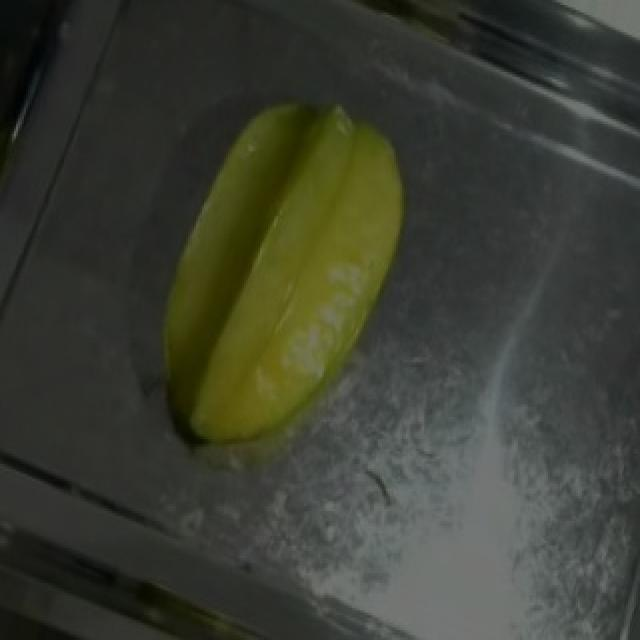fruit: (128, 72, 480, 446)
